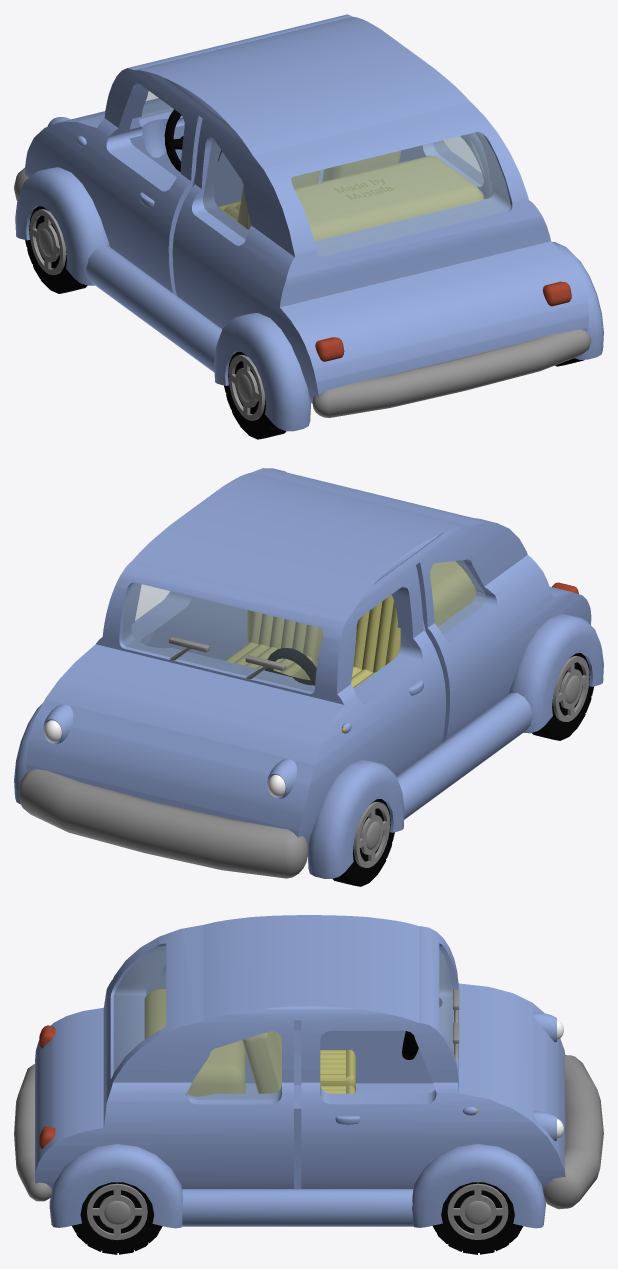
Rendered from Car.glb.
The picture shows the model from 3 angles, top to bottom: view 1: azimuth 30°, elevation 25°; view 2: azimuth 150°, elevation 25°; view 3: azimuth 270°, elevation 25°; orthographic projection. The views are drawn at different scales.
Parts seen in each view (by area): view 1: Circle013, Box003, ChamferCyl001 (×3), ChamferBox001, ChamferCyl017, ChamferCyl013, Circle014 (×2), Box001, ChamferCyl008 (×2), Box002, ChamferBox004, ChamferBox002 (+3 smaller); view 2: Circle013, ChamferCyl016, ChamferCyl001 (×3), Box004, ChamferCyl013, Circle014 (×2), Box001, ChamferBox002, ChamferCyl008 (×2), ChamferBox001, ChamferBox004, ChamferBox005 (+3 smaller); view 3: Circle013, ChamferCyl001 (×2), ChamferCyl013, ChamferCyl016, ChamferCyl011 (×2), Box002, Box003, Circle017 (×2), ChamferBox001, ChamferCyl017, ChamferBox004, ChamferBox003 (+2 smaller).
Boxes of the visible parts, x1,y1,x2,y2 form: Circle013: [25, 14, 588, 403]; Box003: [291, 132, 510, 256]; ChamferCyl001 (×3): [15, 167, 603, 431]; ChamferBox001: [248, 156, 484, 241]; ChamferCyl017: [312, 329, 591, 417]; ChamferCyl013: [86, 246, 222, 372]; Circle014 (×2): [29, 209, 265, 420]; Box001: [203, 138, 250, 239]; ChamferCyl008 (×2): [25, 206, 285, 439]; Box002: [433, 136, 484, 185]; ChamferBox004: [322, 150, 400, 181]; ChamferBox002: [237, 170, 319, 228]; Circle013: [26, 468, 591, 847]; ChamferCyl016: [18, 769, 307, 878]; ChamferCyl001 (×3): [14, 614, 603, 878]; Box004: [122, 582, 322, 691]; ChamferCyl013: [396, 693, 532, 819]; Circle014 (×2): [353, 656, 589, 867]; Box001: [430, 560, 485, 634]; ChamferBox002: [353, 595, 400, 673]; ChamferCyl008 (×2): [333, 653, 594, 886]; ChamferBox001: [247, 561, 475, 642]; ChamferBox004: [249, 611, 323, 661]; ChamferBox005: [225, 642, 317, 679]; Circle013: [35, 915, 565, 1190]; ChamferCyl001 (×2): [49, 1143, 545, 1228]; ChamferCyl013: [182, 1189, 413, 1226]; ChamferCyl016: [543, 1055, 603, 1209]; ChamferCyl011 (×2): [72, 1182, 523, 1254]; Box002: [187, 1031, 281, 1099]; Box003: [114, 945, 165, 1071]; Circle017 (×2): [87, 1183, 508, 1240]; ChamferBox001: [144, 988, 245, 1096]; ChamferCyl017: [14, 1064, 51, 1201]; ChamferBox004: [242, 1031, 281, 1093]; ChamferBox003: [320, 1049, 355, 1091].
Size of the model in its own units: 1.91 by 1.36 by 3.24.
